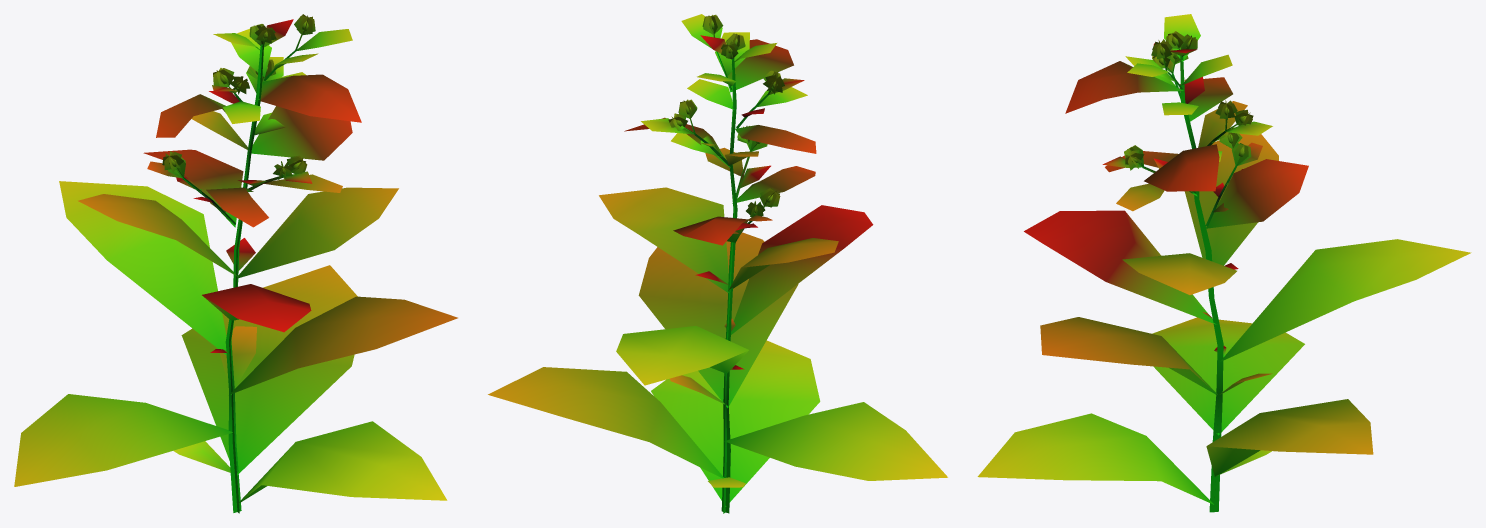
Rendered from Greater Burdock_LOD4_Var2_xh5pdgiqx.fbx.
3 views of the same model, side by side, from view 1: azimuth 30°, elevation 25°; view 2: azimuth 150°, elevation 25°; view 3: azimuth 270°, elevation 25° (orthographic). The views are drawn at different scales.
Visible parts, largest first — view 1: _kiev_Var2_LOD4; view 2: _kiev_Var2_LOD4; view 3: _kiev_Var2_LOD4.
Part boxes in pixels (left/top/right/bottom): _kiev_Var2_LOD4: left=14, top=14, right=457, bottom=513; _kiev_Var2_LOD4: left=488, top=14, right=947, bottom=513; _kiev_Var2_LOD4: left=977, top=14, right=1471, bottom=512.
Bounding box in the file's own units: 78.97 × 94.01 × 85.73.
